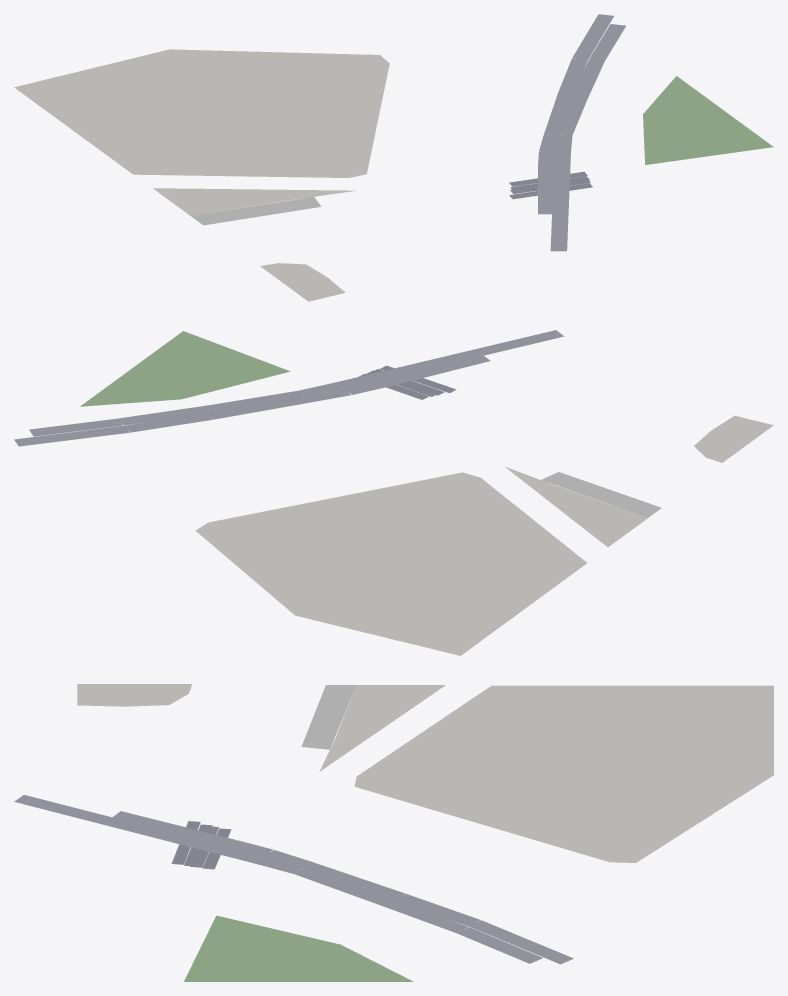
Rendered from 110_117_mid.glb.
3 views of the same model, one above another, from view 1: azimuth 30°, elevation 25°; view 2: azimuth 150°, elevation 25°; view 3: azimuth 270°, elevation 25° (orthographic). The views are drawn at different scales.
Bounding box in the file's own units: 500 × 15.3 × 545.
